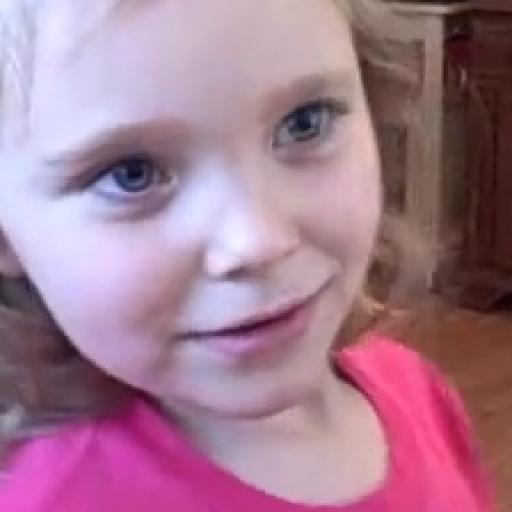Autism: (0, 4, 402, 468)
